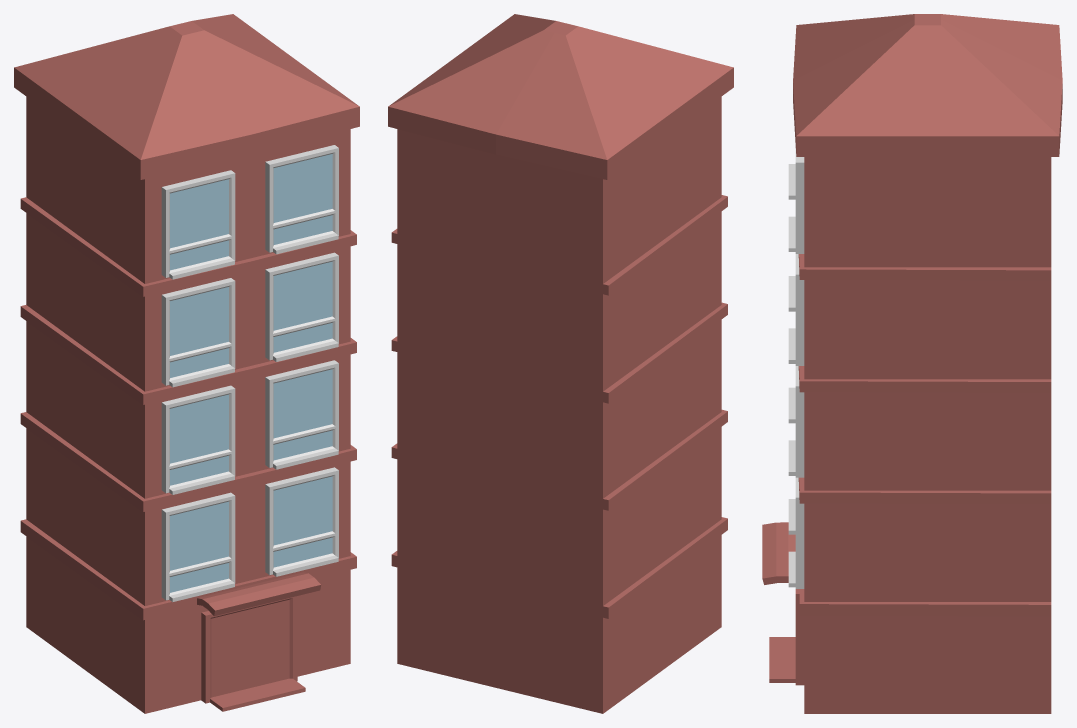
File: Apt2.seperated.fbx
3 views of the same model, side by side, from view 1: azimuth 30°, elevation 25°; view 2: azimuth 150°, elevation 25°; view 3: azimuth 270°, elevation 25° (orthographic). The views are drawn at different scales.
Parts seen in each view (by area): view 1: building.base, roof, window.glass, window.frame, building.seperators, door.inner, tente, door.frame, door.step; view 2: building.base, roof, building.seperators; view 3: building.base, roof, building.seperators, window.frame, tente, door.step, door.frame.
Boxes of the visible parts, box(x1,y1,x2,y2) form: building.base: box(26, 97, 350, 713); roof: box(14, 14, 359, 179); window.glass: box(170, 154, 332, 592); window.frame: box(161, 145, 338, 601); building.seperators: box(20, 197, 356, 620); door.inner: box(211, 599, 289, 697); tente: box(197, 572, 320, 616); door.frame: box(201, 596, 297, 703); door.step: box(210, 678, 305, 711); building.base: box(397, 97, 721, 713); roof: box(388, 14, 733, 179); building.seperators: box(391, 195, 727, 618); building.base: box(804, 157, 1051, 713); roof: box(793, 14, 1062, 156); building.seperators: box(798, 254, 1051, 616); window.frame: box(788, 148, 804, 588); tente: box(762, 522, 795, 584); door.step: box(769, 637, 795, 682); door.frame: box(795, 589, 804, 685).
Size of the model in its own units: 986 by 2649 by 1123.
